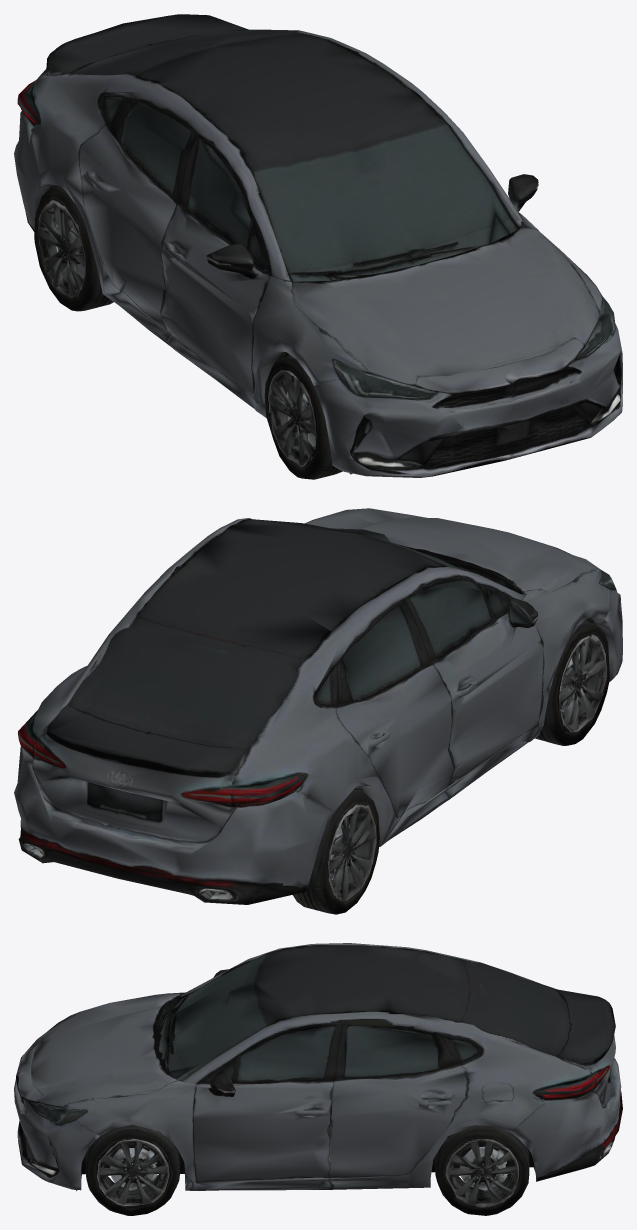
The model's file is car_hatch_lod1.glb.
3 views of the same model, one above another, from view 1: azimuth 30°, elevation 25°; view 2: azimuth 150°, elevation 25°; view 3: azimuth 270°, elevation 25° (orthographic). The views are drawn at different scales.
Parts seen in each view (by area): view 1: tripo_node_8ab59725-be6d-47f6-b91d-43924e323fd1; view 2: tripo_node_8ab59725-be6d-47f6-b91d-43924e323fd1; view 3: tripo_node_8ab59725-be6d-47f6-b91d-43924e323fd1.
Part boxes in pixels (x1=…): tripo_node_8ab59725-be6d-47f6-b91d-43924e323fd1: x1=14, y1=14, x2=622, y2=479; tripo_node_8ab59725-be6d-47f6-b91d-43924e323fd1: x1=14, y1=508, x2=622, y2=914; tripo_node_8ab59725-be6d-47f6-b91d-43924e323fd1: x1=14, y1=943, x2=622, y2=1215.
Bounding box in the file's own units: 1.92 × 1.4 × 4.06.
Materials: 1 (1 with a texture image).
